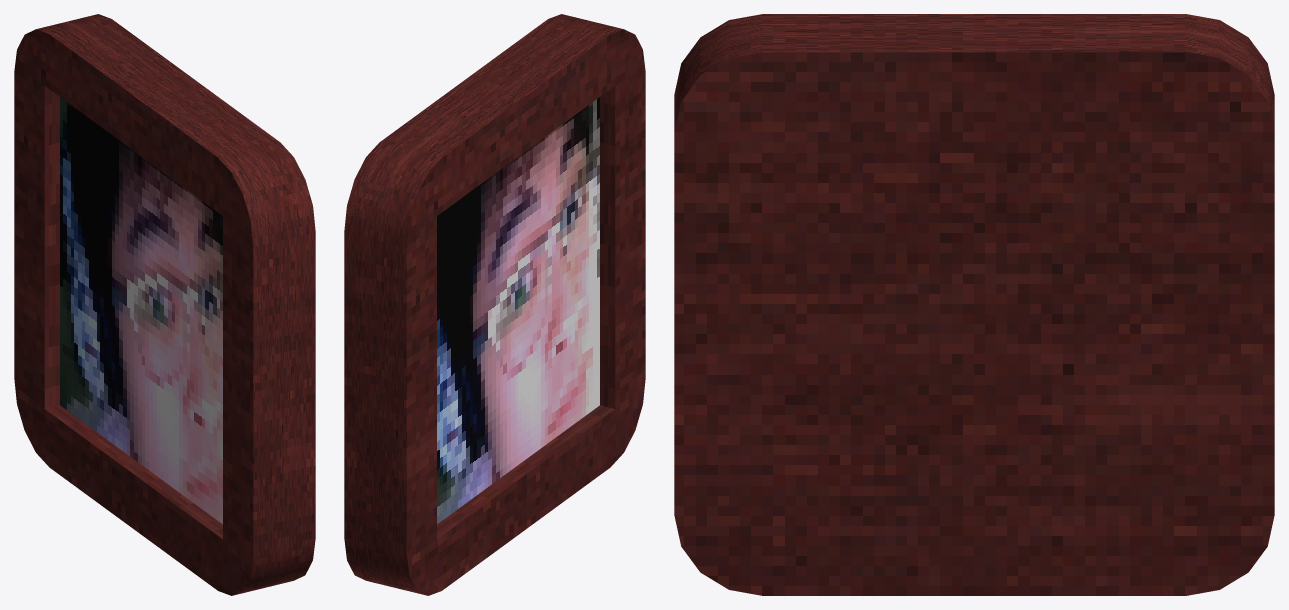
Rendered from diegopainting.fbx.
3 renders of one model, left to right at view 1: azimuth 30°, elevation 25°; view 2: azimuth 150°, elevation 25°; view 3: azimuth 270°, elevation 25°, orthographic. The views are drawn at different scales.
Parts seen in each view (by area): view 1: Cube.041, Plane.003; view 2: Cube.041, Plane.003; view 3: Cube.041.
Part boxes in pixels (x1,y1,x2,y2): Cube.041: (14,14,315,595); Plane.003: (60,97,222,524); Cube.041: (344,14,645,595); Plane.003: (437,97,599,524); Cube.041: (674,14,1274,595).
Size of the model in its own units: 115 by 17.29 by 115.
